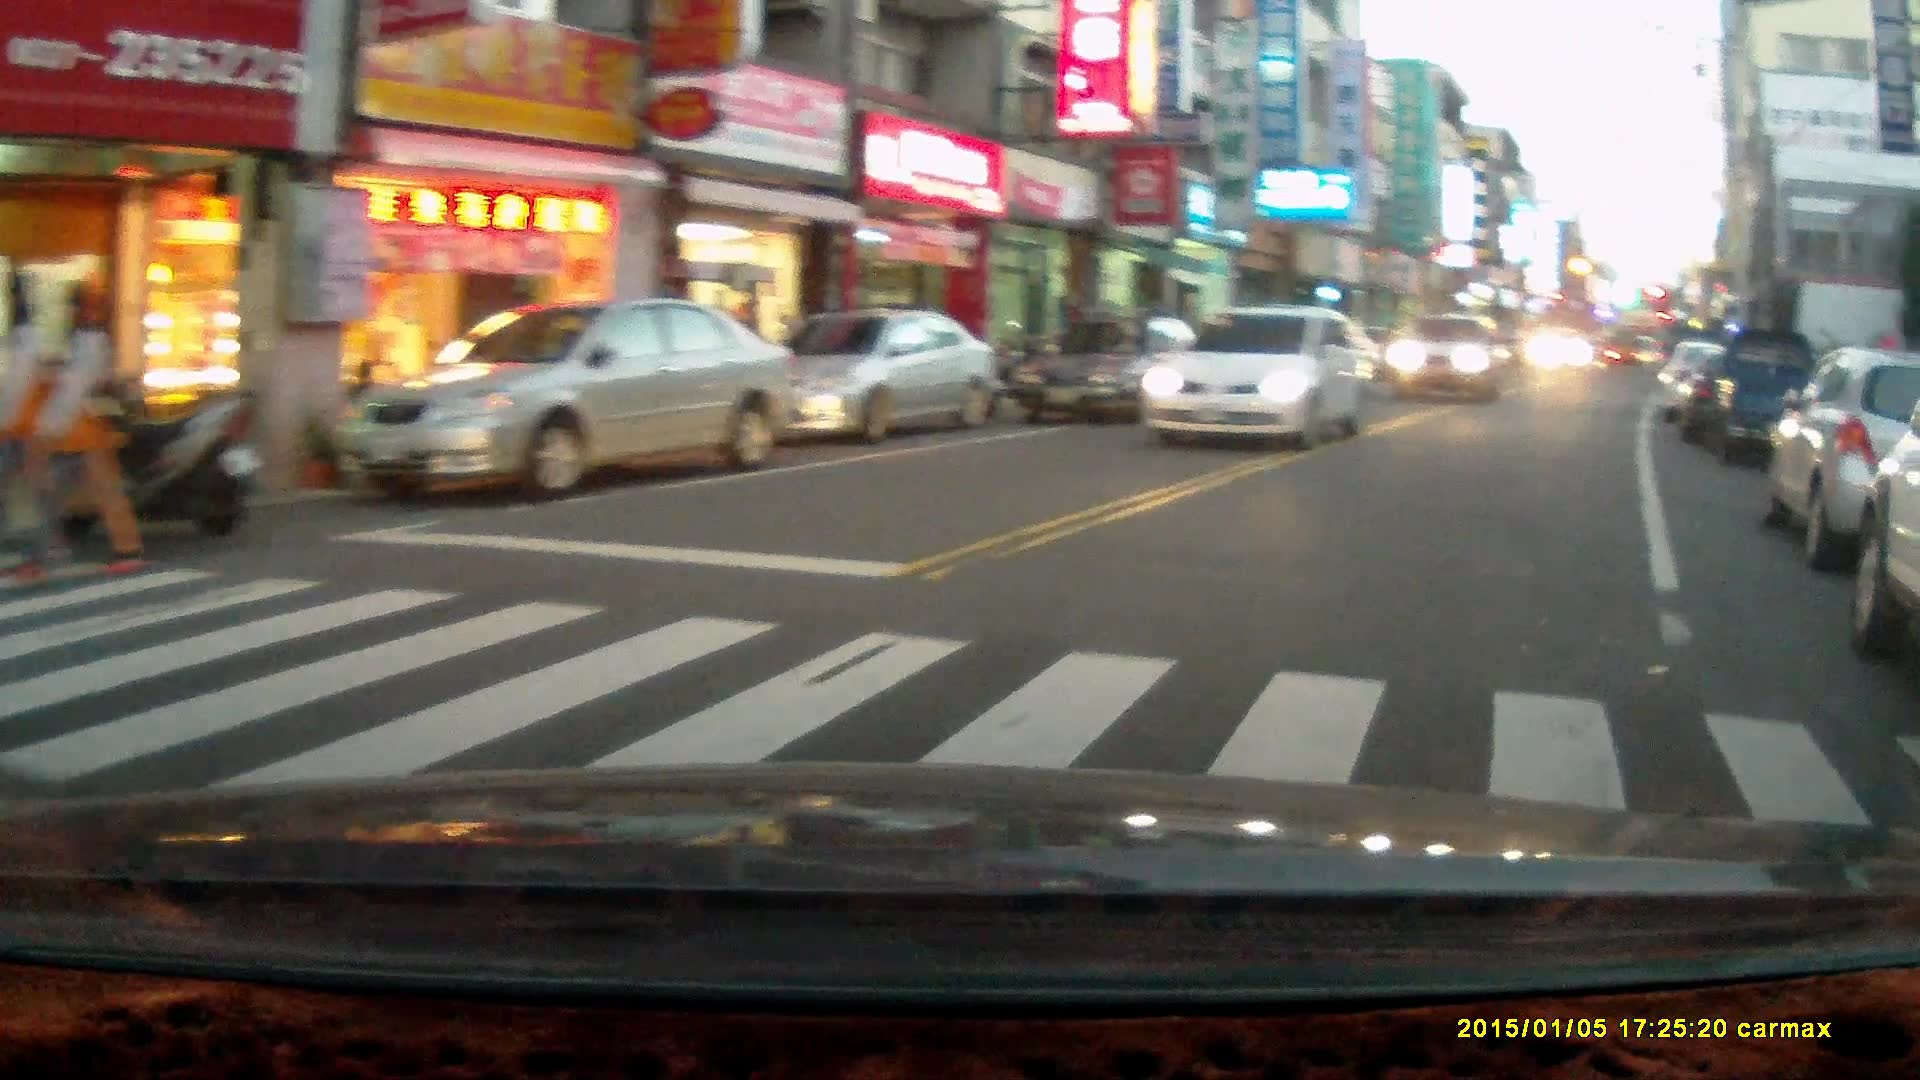pedestrian: (8, 277, 149, 588), (0, 270, 79, 581)
vehicle: (336, 292, 806, 504), (1138, 299, 1377, 450), (728, 306, 1000, 436), (1767, 335, 1920, 561), (1018, 316, 1215, 432), (1689, 324, 1837, 468), (1375, 308, 1512, 398), (1524, 321, 1592, 373)
